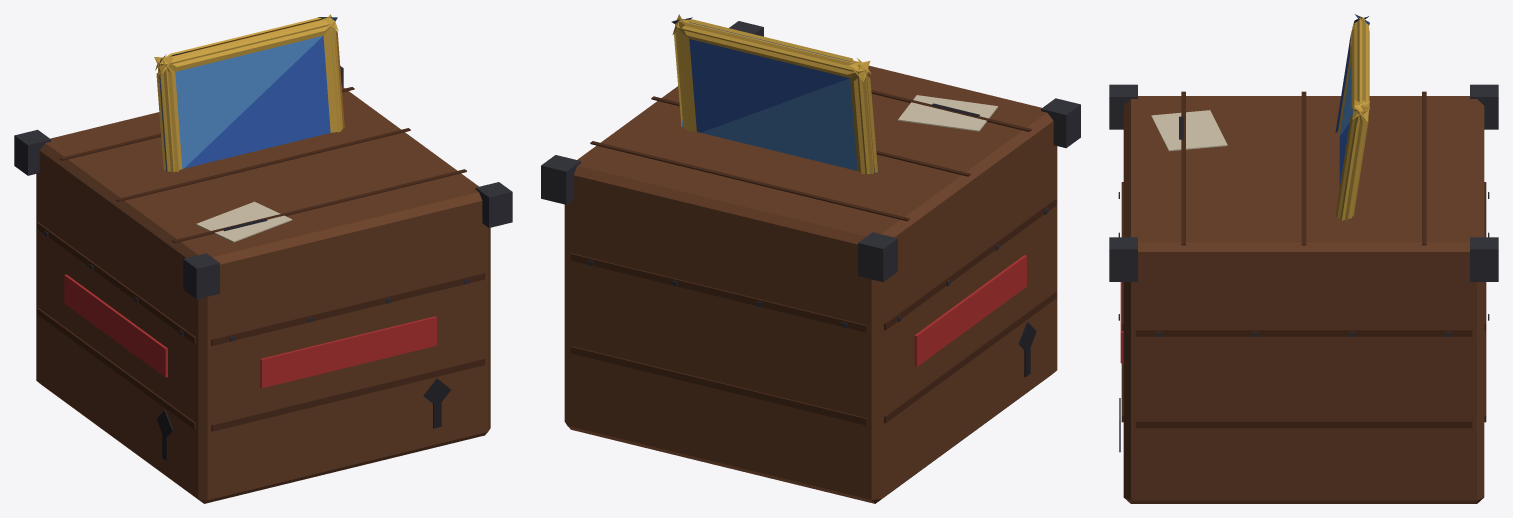
The model's file is kit-paris-crate.glb.
The picture shows the model from 3 angles, left to right: view 1: azimuth 30°, elevation 25°; view 2: azimuth 150°, elevation 25°; view 3: azimuth 270°, elevation 25°; orthographic projection. The views are drawn at different scales.
Parts seen in each view (by area): view 1: kit-paris-crate; view 2: kit-paris-crate; view 3: kit-paris-crate.
Boxes of the visible parts, x1=… form: kit-paris-crate: x1=14, y1=14, x2=512, y2=503; kit-paris-crate: x1=541, y1=14, x2=1080, y2=503; kit-paris-crate: x1=1109, y1=14, x2=1498, y2=503.
Bounding box in the file's own units: 1.62 × 1.73 × 1.62.
